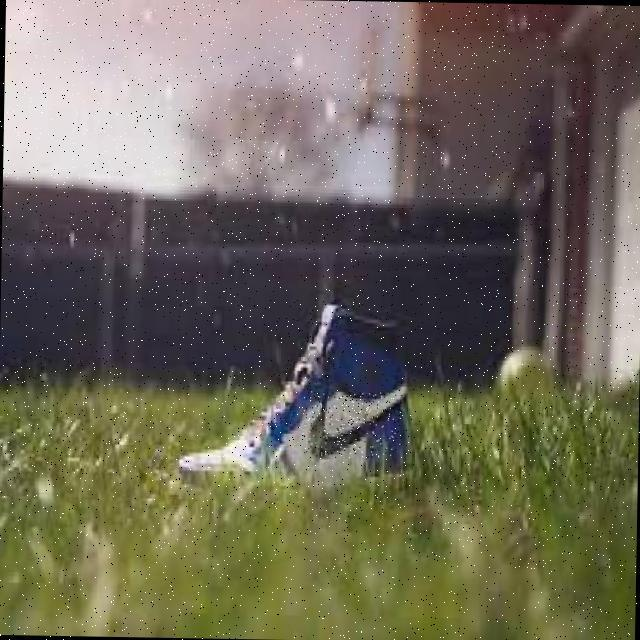Nike: (302, 391, 403, 459)
